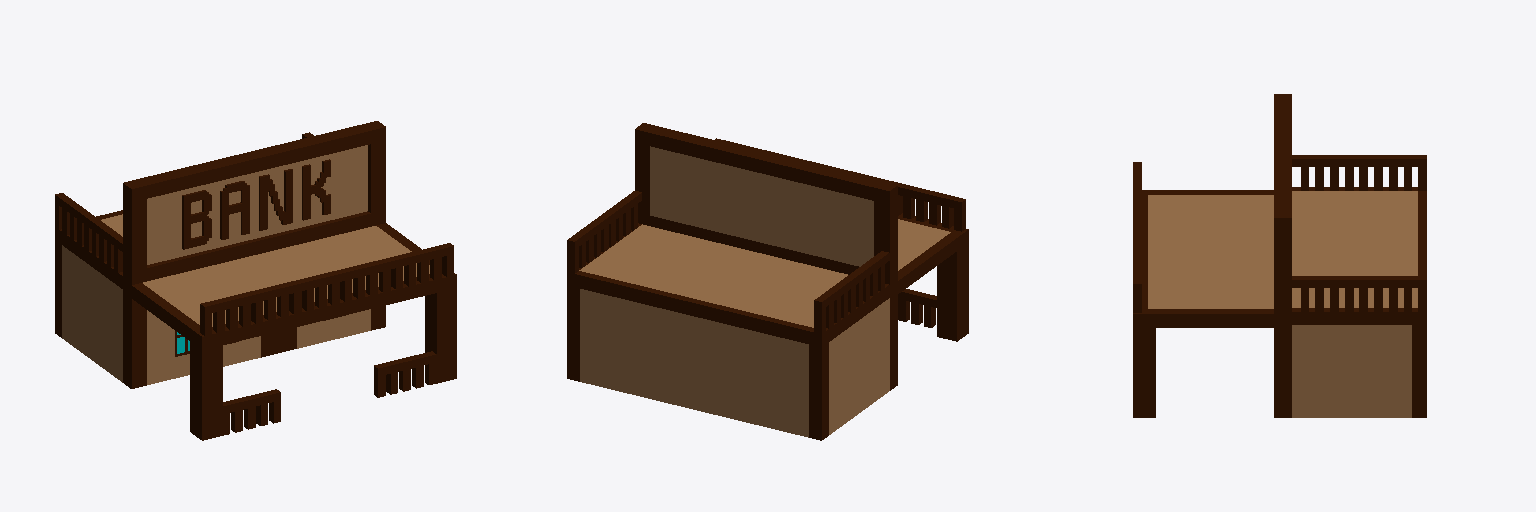
The picture shows the model from 3 angles: view 1: azimuth 30°, elevation 25°; view 2: azimuth 150°, elevation 25°; view 3: azimuth 270°, elevation 25°; orthographic projection.
Size of the model in its own units: 100 by 75 by 100.
1 materials, 1 textured.